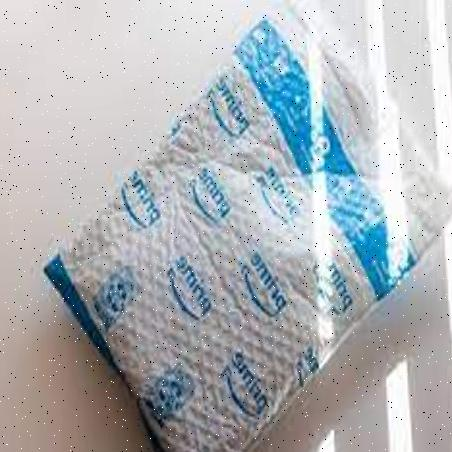Amazon: (40, 1, 452, 452)
